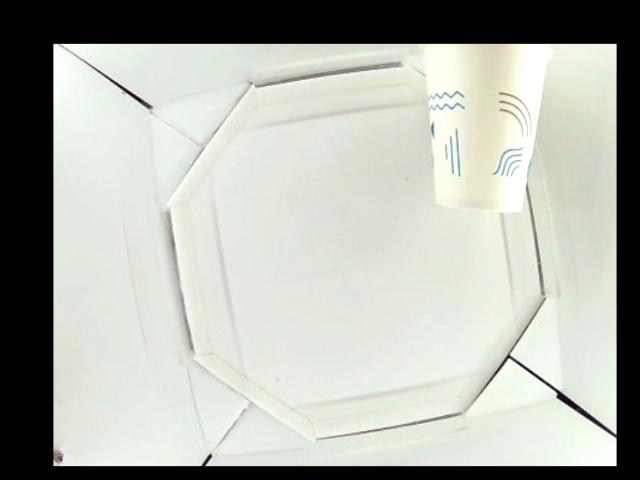Cup: (420, 44, 553, 214)
